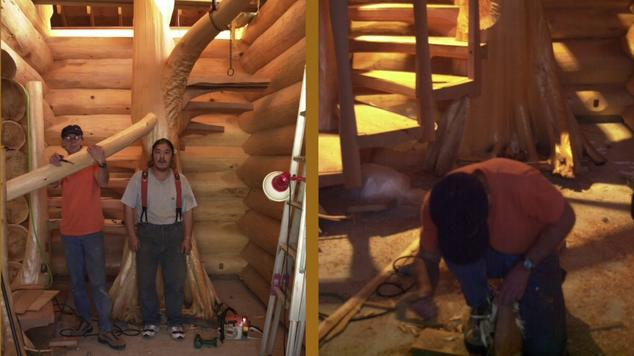hands_up: (51, 126, 111, 338)
walk: (117, 129, 198, 338)
